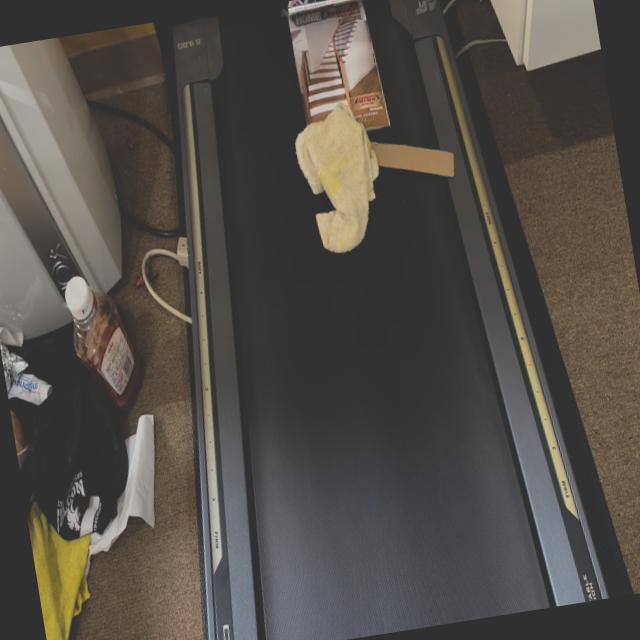Recycle: (289, 5, 392, 128), (356, 109, 462, 199)
Trash: (288, 98, 396, 271)
